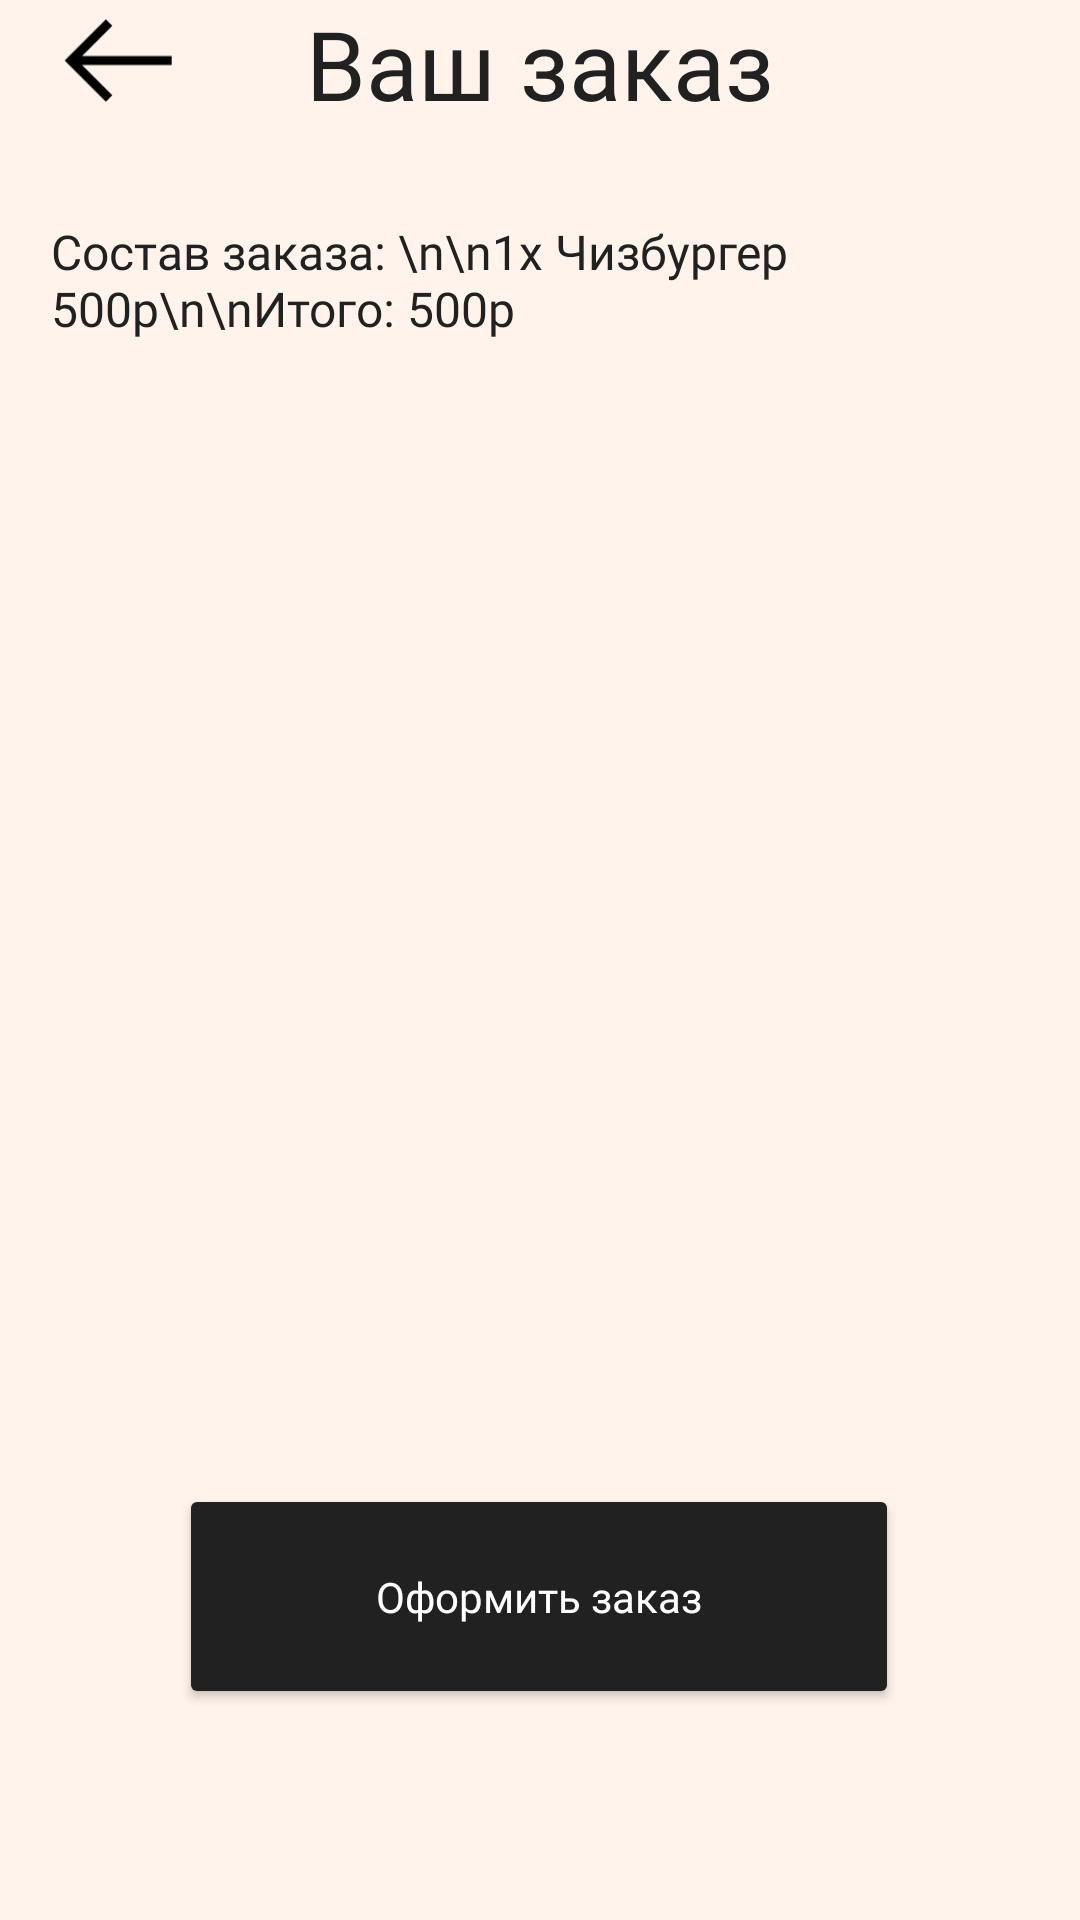

Where to tap for icons on this 1080px x 1920px app screen, as [x,y]:
back: [118,60]
